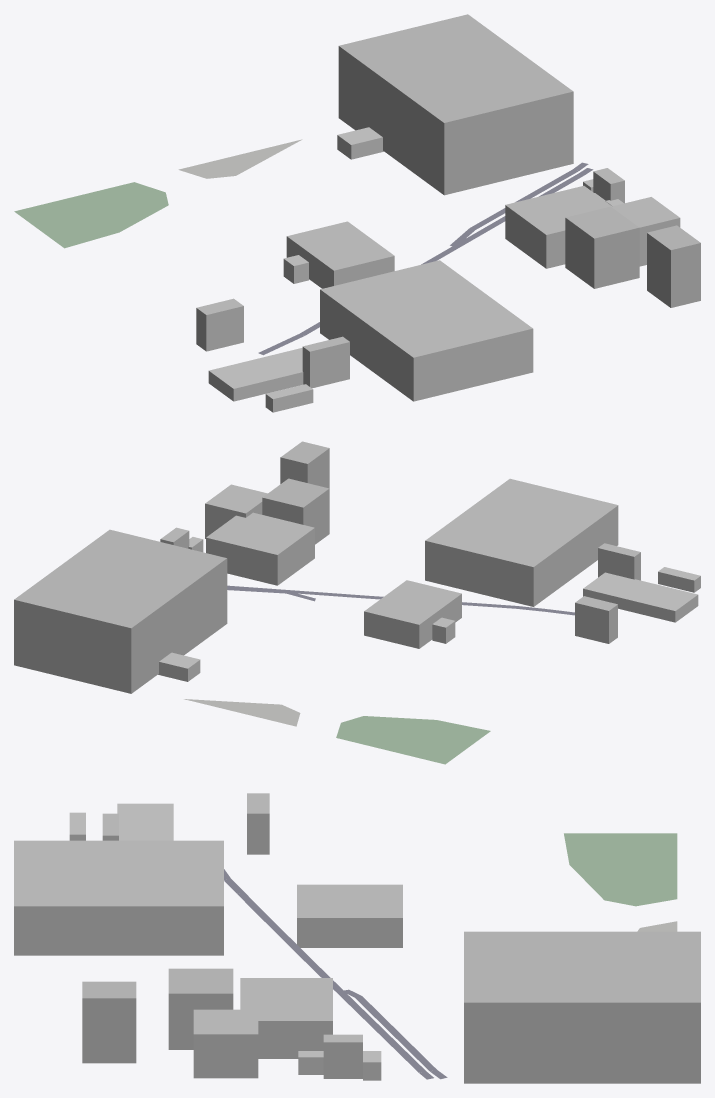
File: 133_95_mid.glb
3 views of the same model, one above another, from view 1: azimuth 30°, elevation 25°; view 2: azimuth 150°, elevation 25°; view 3: azimuth 270°, elevation 25° (orthographic). The views are drawn at different scales.
Bounding box in the file's own units: 535 × 78.54 × 568.
